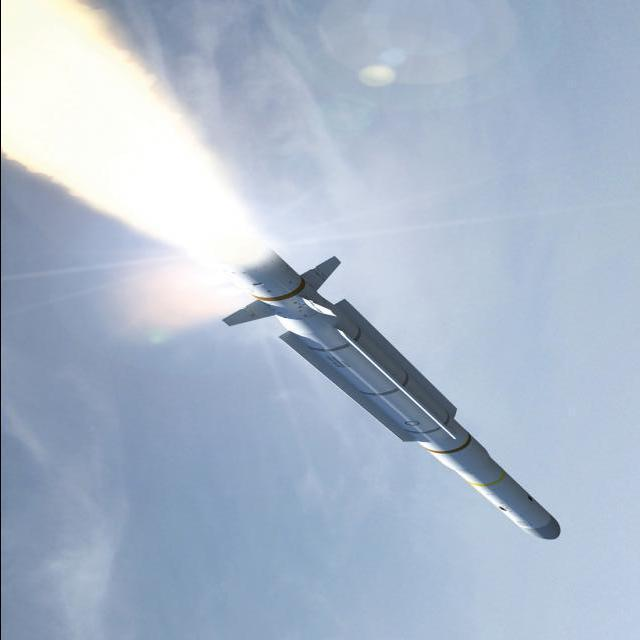missile: (237, 249, 568, 546)
